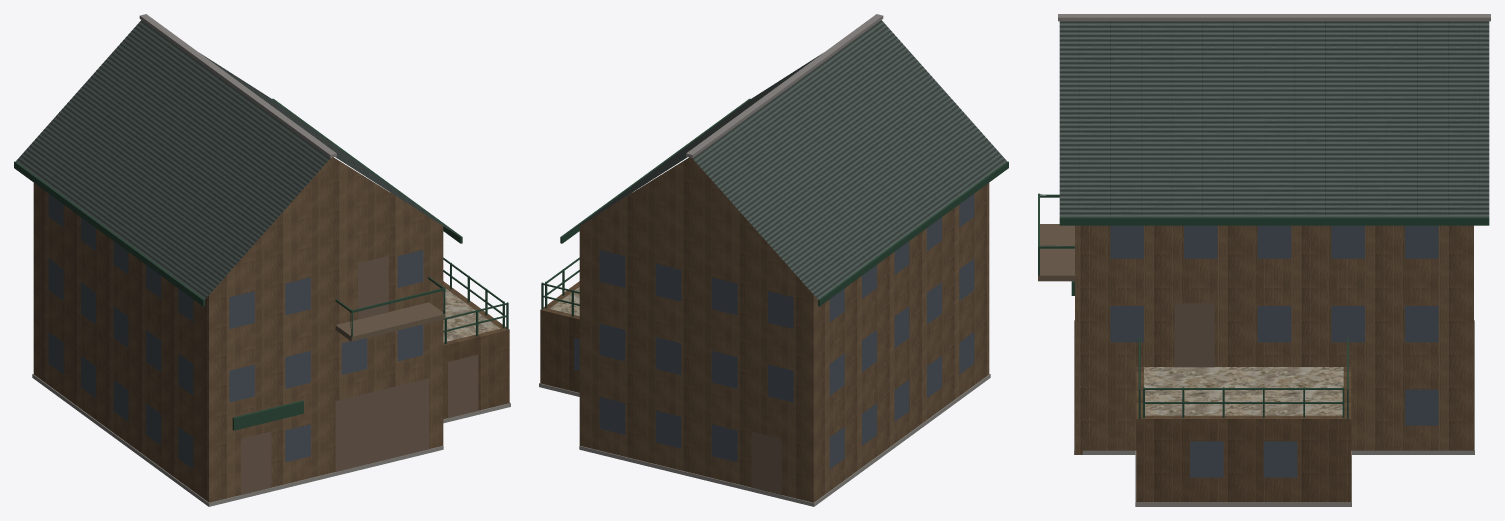
Rendered from rw-boathouse.zfix-v22.lod1.glb.
The picture shows the model from 3 angles, left to right: view 1: azimuth 30°, elevation 25°; view 2: azimuth 150°, elevation 25°; view 3: azimuth 270°, elevation 25°; orthographic projection. The views are drawn at different scales.
Parts seen in each view (by area): view 1: rw-boathouse; view 2: rw-boathouse; view 3: rw-boathouse.
Part boxes in pixels (x1,y1,x2,y2): rw-boathouse: (14,14,510,506); rw-boathouse: (539,14,1008,506); rw-boathouse: (1038,14,1490,506).
Size of the model in its own units: 14.57 by 13.44 by 14.78.
Materials: 4 (3 with a texture image).
